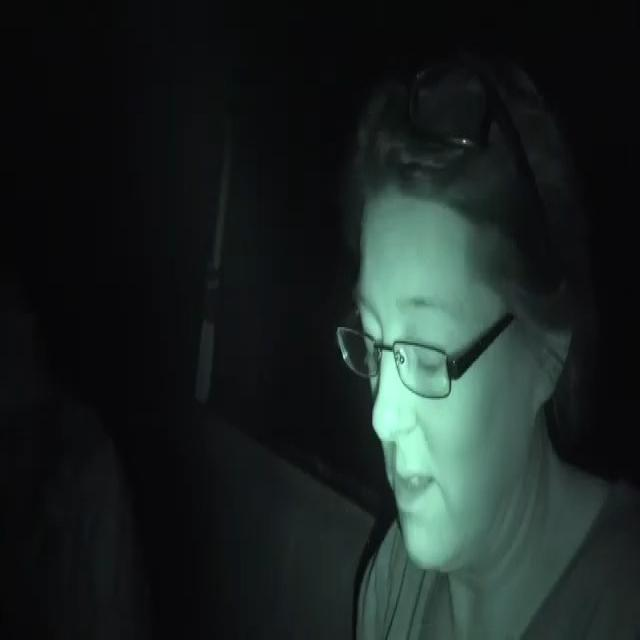human: (312, 1, 640, 640)
